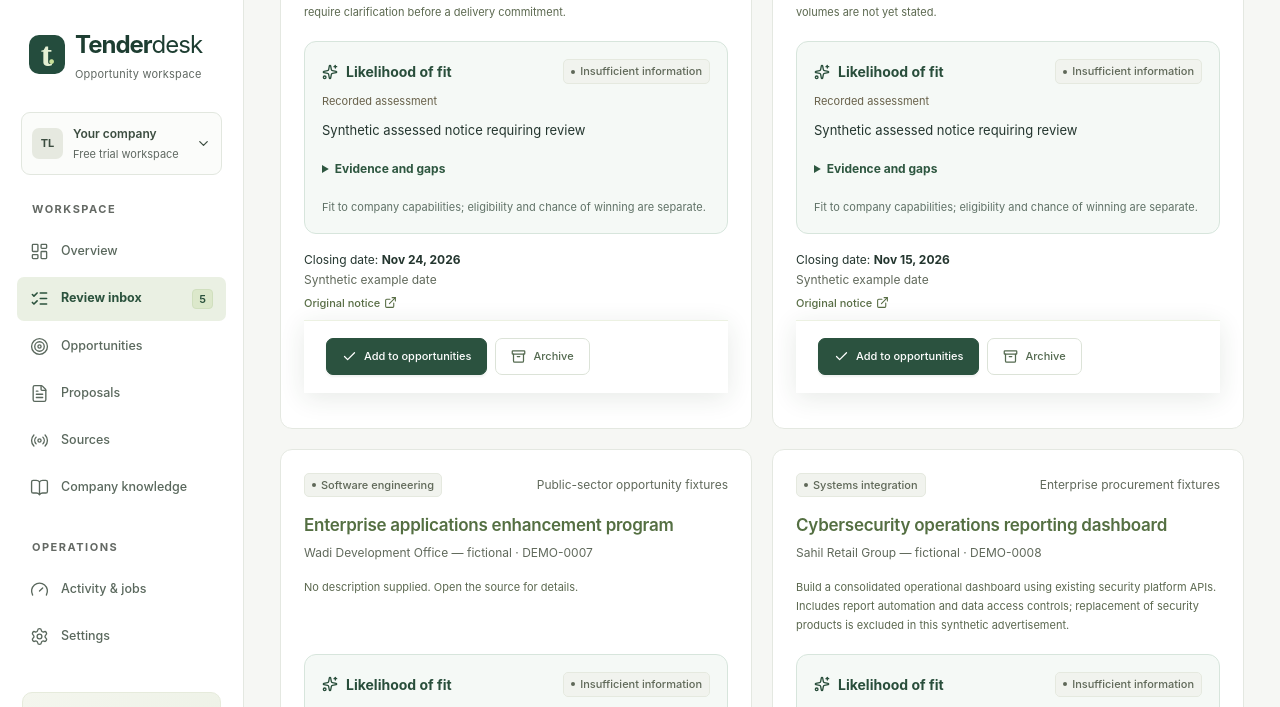
Scenario: UI journeys with a test-only workspace › reviews discovered items once and moves accepted items into Opportunities
(page scrolled)
Expected: the link "Enterprise applications enhancement program" is shown, [304, 513, 728, 538]
Expected: the link "Enterprise AI enablement and intelligent service desk" is not shown
Click the button "Add to opportunities" below "Nov 24, 2026" at (407, 356), box [326, 338, 488, 375]
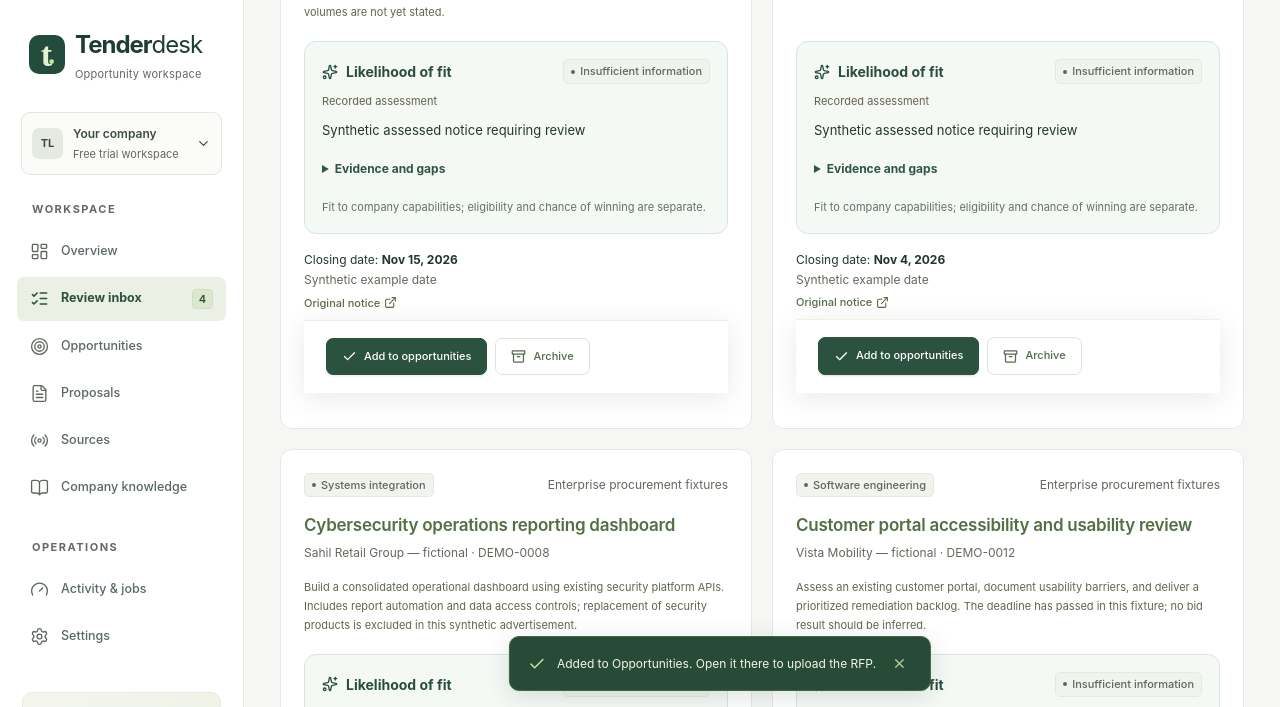
Click the link "Opportunities" at (86, 346), box [30, 337, 143, 356]
(page scrolled)
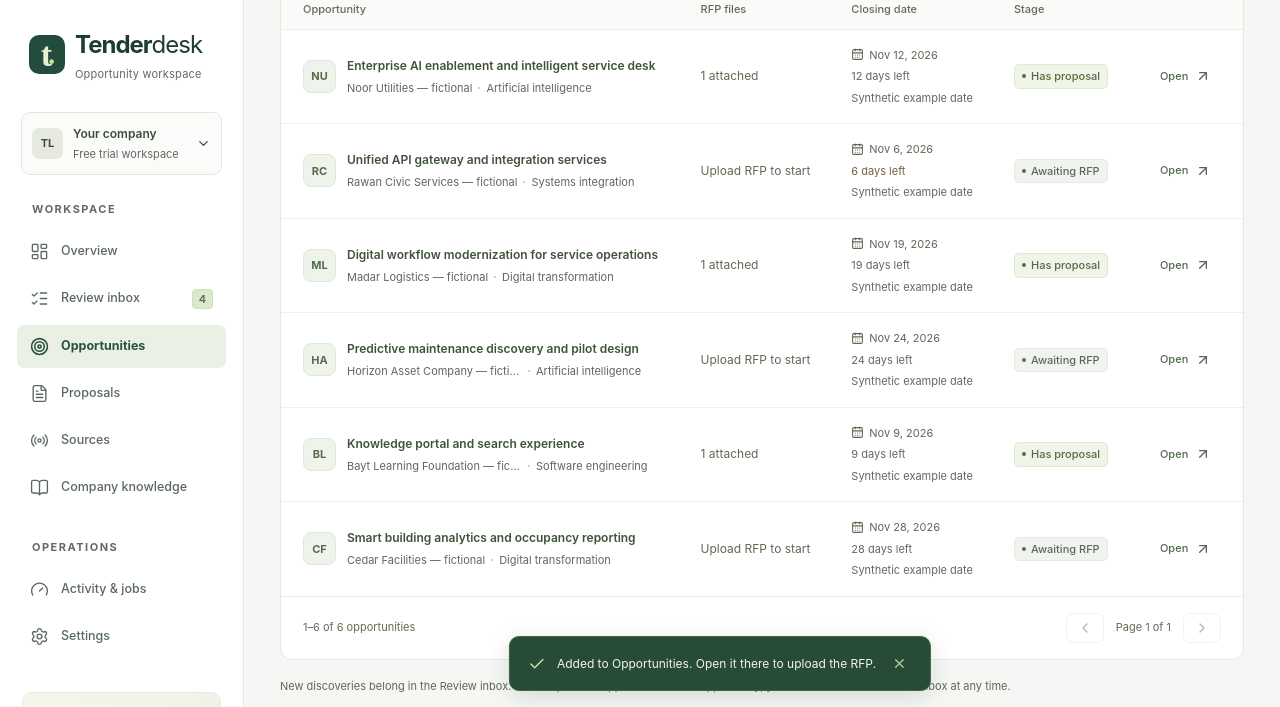
Expected: the link "Predictive maintenance discovery and pilot design" is shown, [347, 340, 641, 358]
